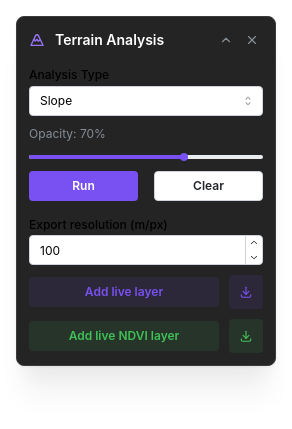
Test case: TerrainAnalysisPanel export download › fetches the gated export with the bearer and saves the blob
Click the button named "Download NDVI GeoTIFF": [246, 336] box [229, 319, 263, 353]
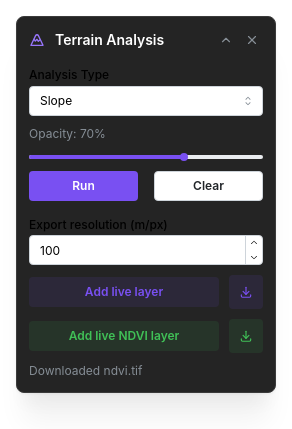
Expected: the text with test id "terrain-live-status" reads "Downloaded ndvi.tif", [29, 363, 142, 378]
